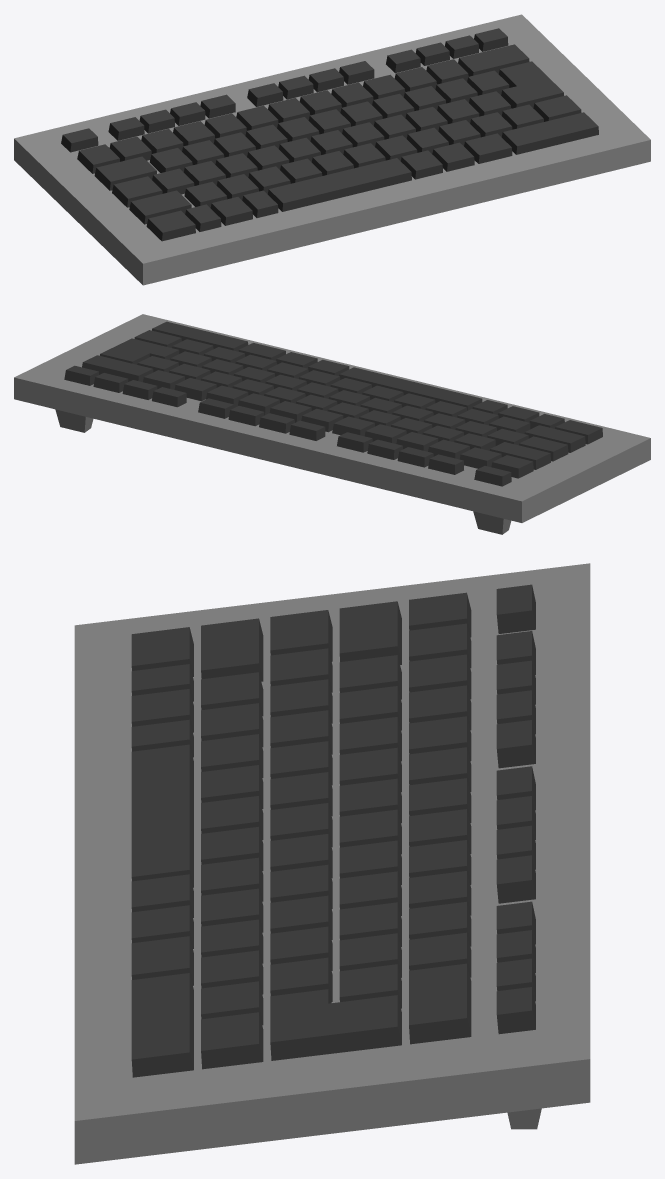
The model's file is KeyboardV1White.fbx.
3 renders of one model, top to bottom at view 1: azimuth 30°, elevation 25°; view 2: azimuth 150°, elevation 25°; view 3: azimuth 270°, elevation 25°, orthographic. The views are drawn at different scales.
Parts seen in each view (by area): view 1: KeyboardV1White; view 2: KeyboardV1White; view 3: KeyboardV1White.
Part boxes in pixels (left/top/right/bottom): KeyboardV1White: left=14, top=14, right=650, bottom=285; KeyboardV1White: left=14, top=314, right=650, bottom=534; KeyboardV1White: left=74, top=563, right=590, bottom=1164.
Bounding box in the file's own units: 32.52 × 3.6 × 14.3.
